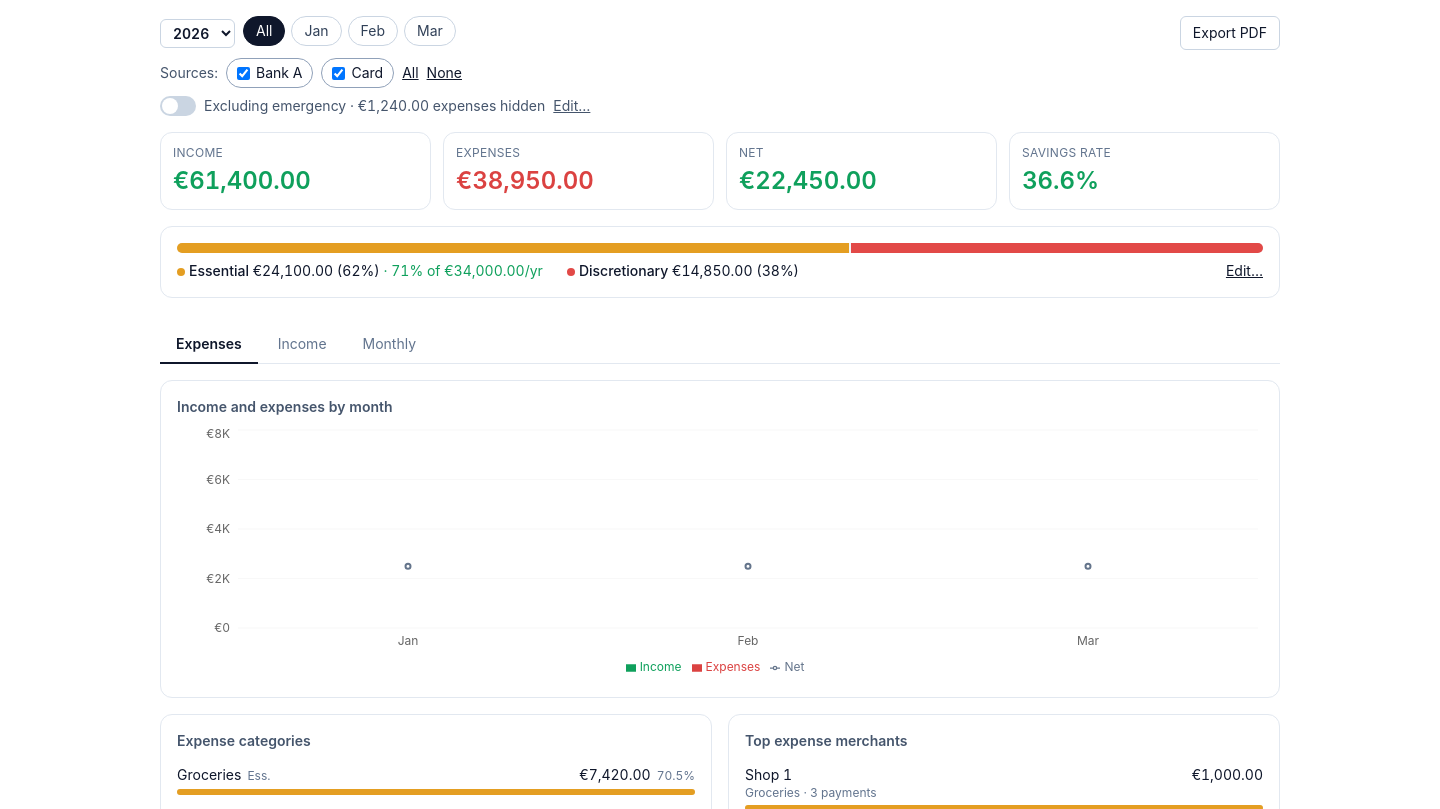
Test: hidden-tag editor › can clear every pattern
Click the button with aria-label "edit hidden tags" at (572,106), box [553,96,590,116]
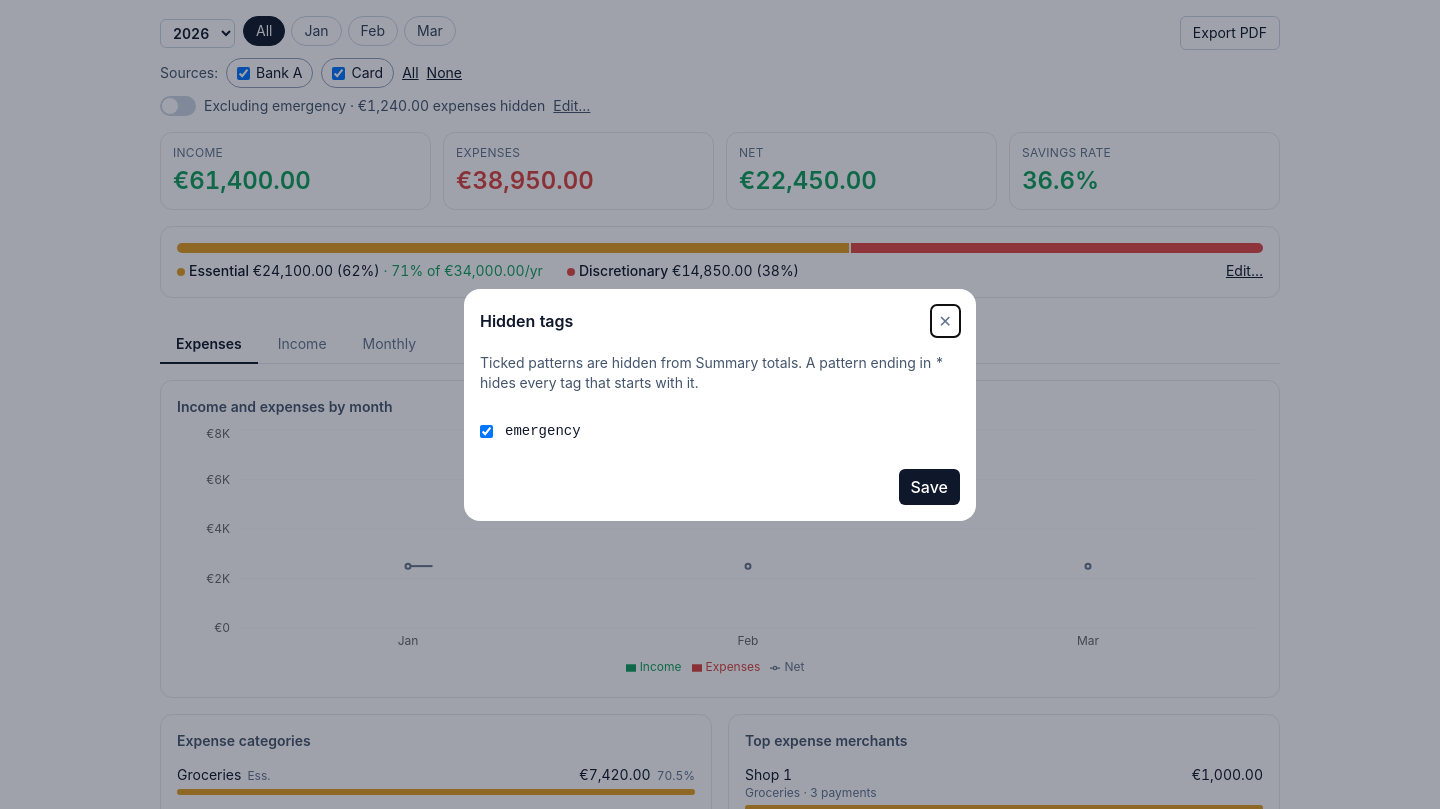
Click the checkbox labelled "emergency" at (486,431), box [480,424,493,438]
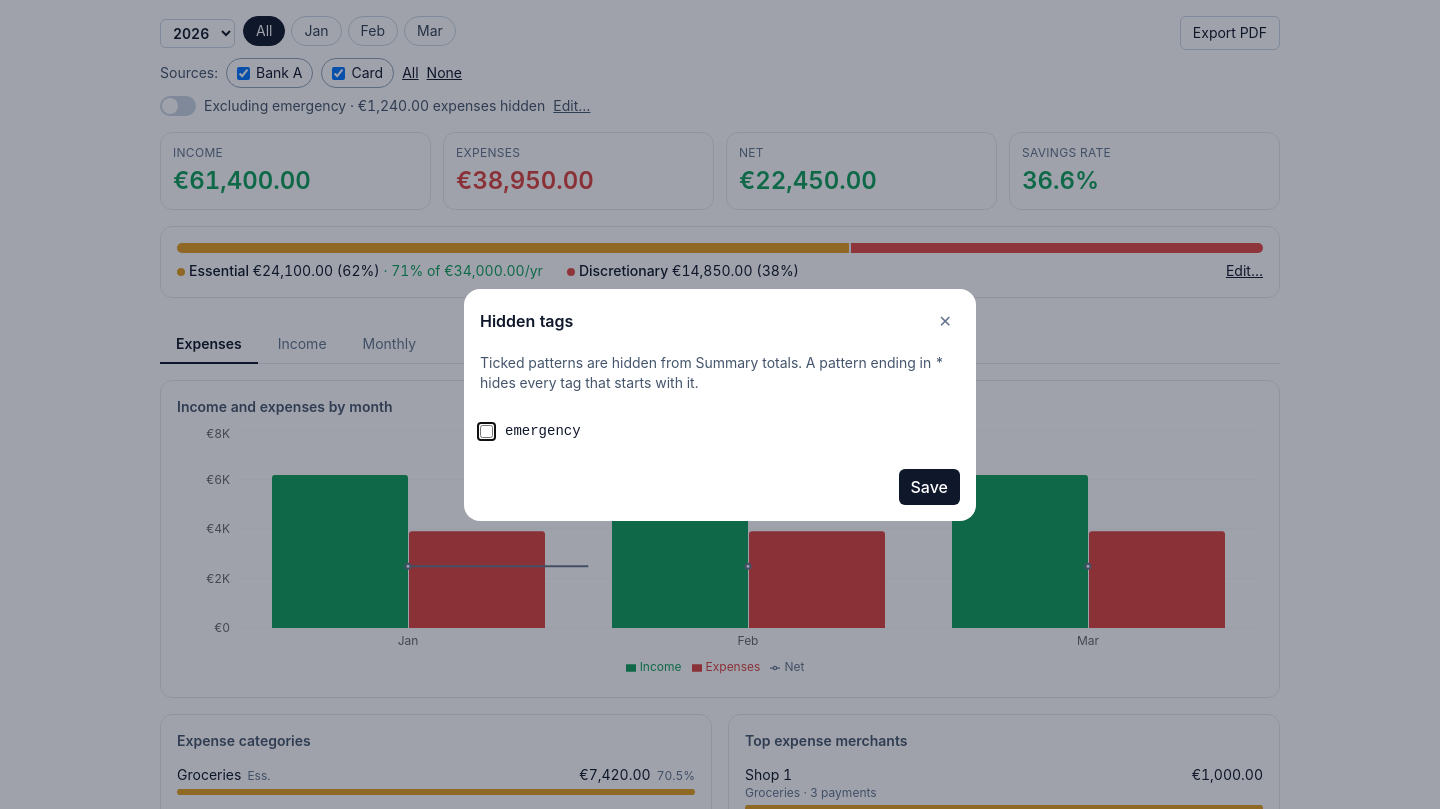
Click the button "Save" at (929,487), box [898,469,960,505]
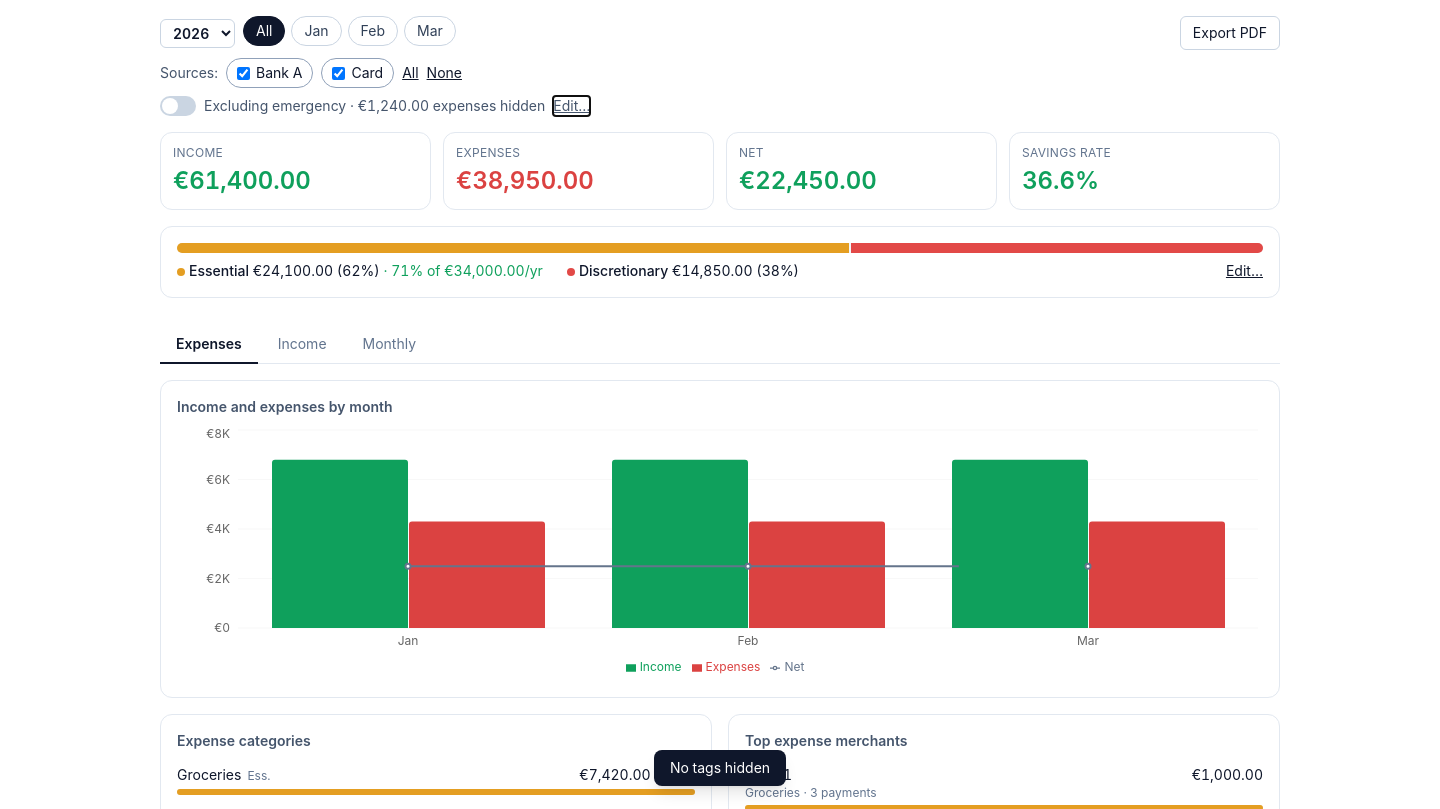
Check: the text "No tags hidden" is shown, box [670,758,770,778]
